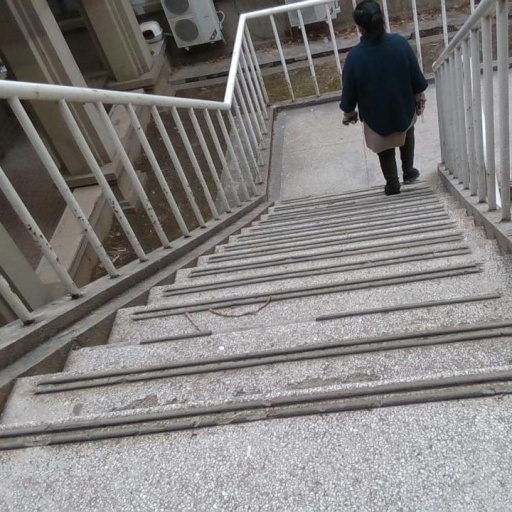Stairs: (0, 183, 512, 512)
